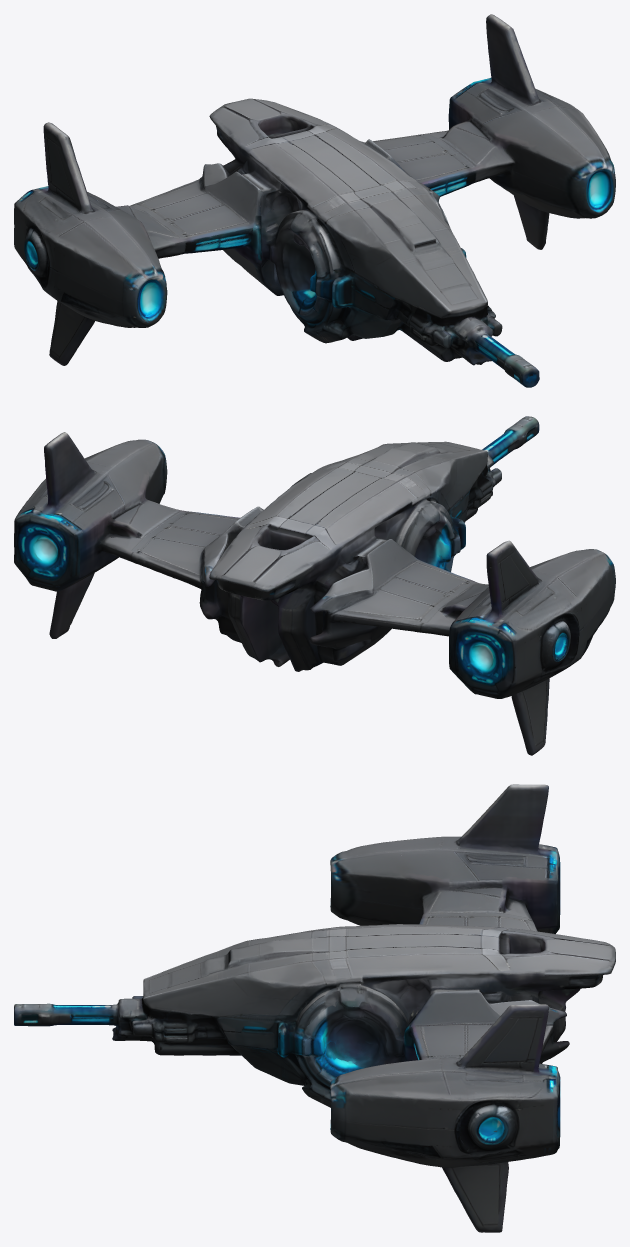
Rendered from sci_fi_fighter_spacecraft.glb.
3 renders of one model, top to bottom at view 1: azimuth 30°, elevation 25°; view 2: azimuth 150°, elevation 25°; view 3: azimuth 270°, elevation 25°, orthographic.
Visible parts, largest first — view 1: input; view 2: input; view 3: input.
Part boxes in pixels (x1,y1,x2,y2): input: [14, 14, 615, 387]; input: [14, 416, 615, 755]; input: [14, 784, 615, 1232].
Bounding box in the file's own units: 8.5 × 3.3 × 8.2.
1 material, 1 textured.
